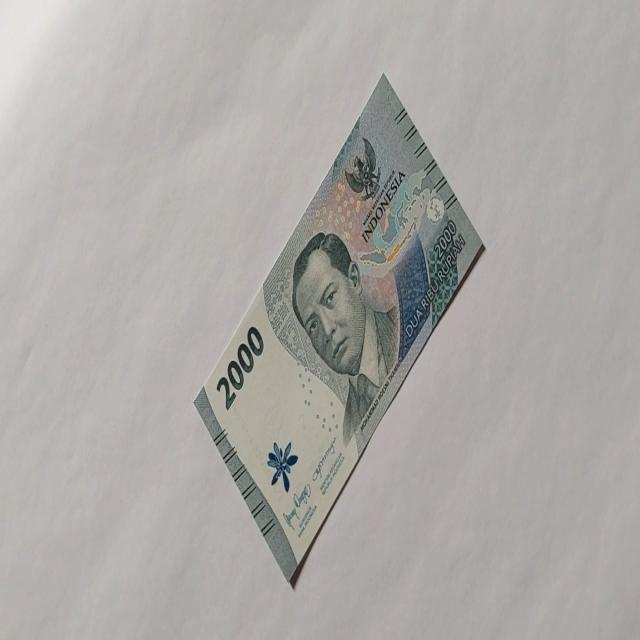dua ribu rupiah: (192, 71, 486, 587), (290, 230, 400, 446), (215, 324, 264, 412)
